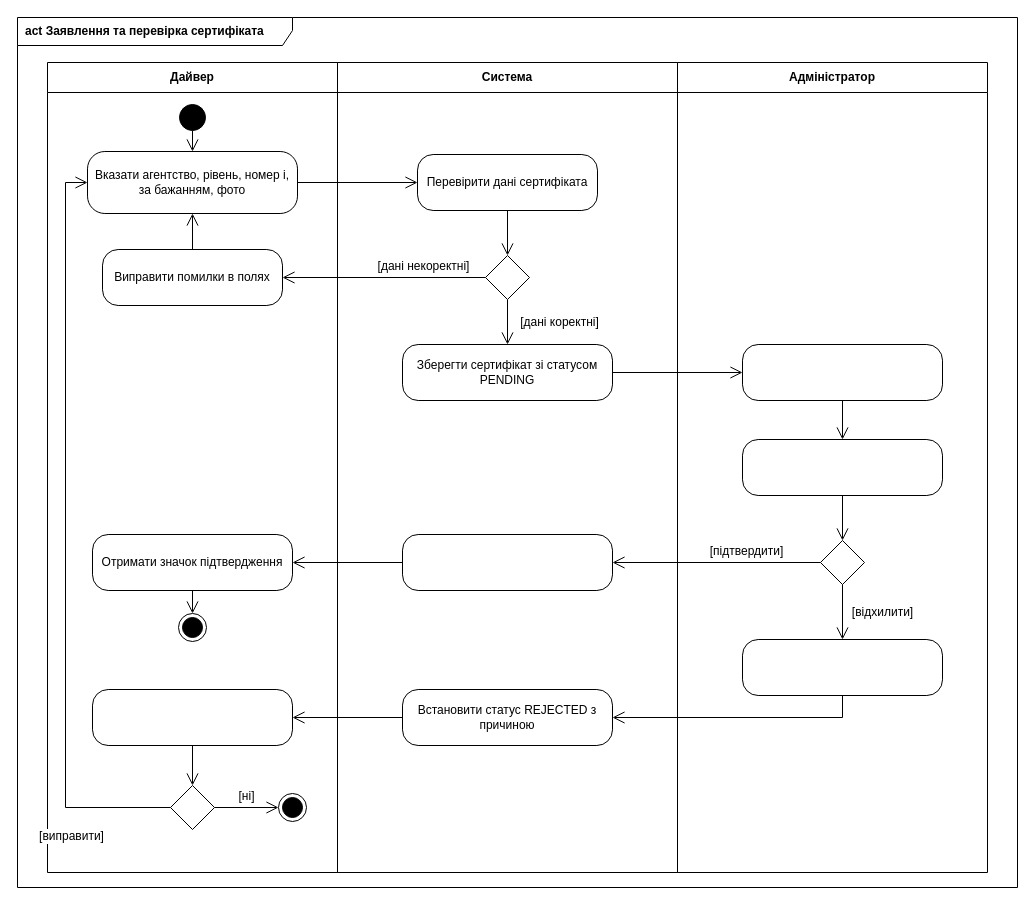
This 1035x905 diagram has some shape labels left out. The centre of each missing label's shape, as x and y in pixels:
"Вказати причину відхилення" goes at [842,667].
"Встановити статус VERIFIED" goes at [507,562].
"Відкрити вкладку сертифікатів" goes at [842,372].
"Перевірити номер і фото" goes at [842,467].
"Побачити причину відхилення" goes at [192,717].
